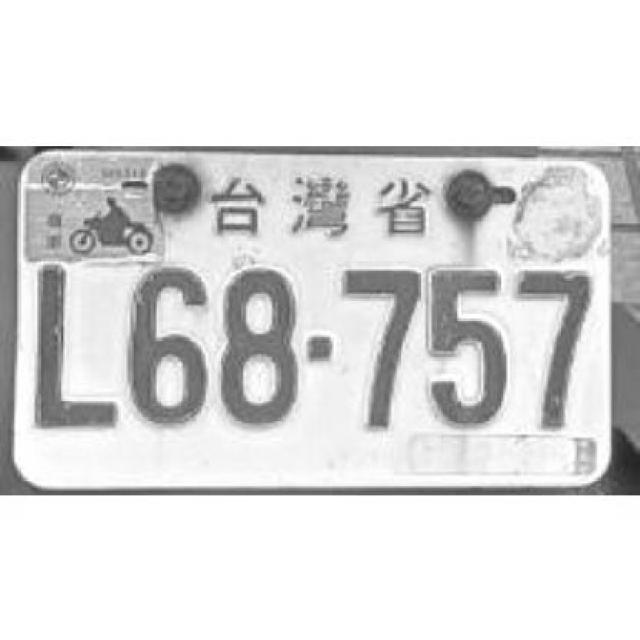-: (308, 332, 332, 363)
5: (426, 268, 509, 426)
6: (126, 264, 209, 424)
7: (516, 268, 596, 429), (343, 268, 422, 428)
8: (220, 265, 302, 426)
L: (32, 262, 118, 430)
